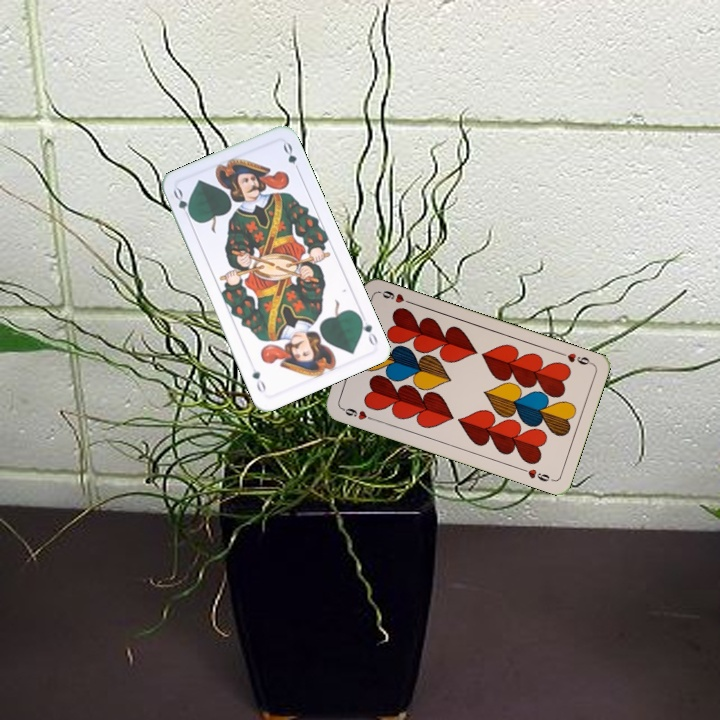GO: (169, 184, 196, 224), (355, 311, 381, 349)
H9: (555, 348, 595, 367), (337, 404, 377, 423)
